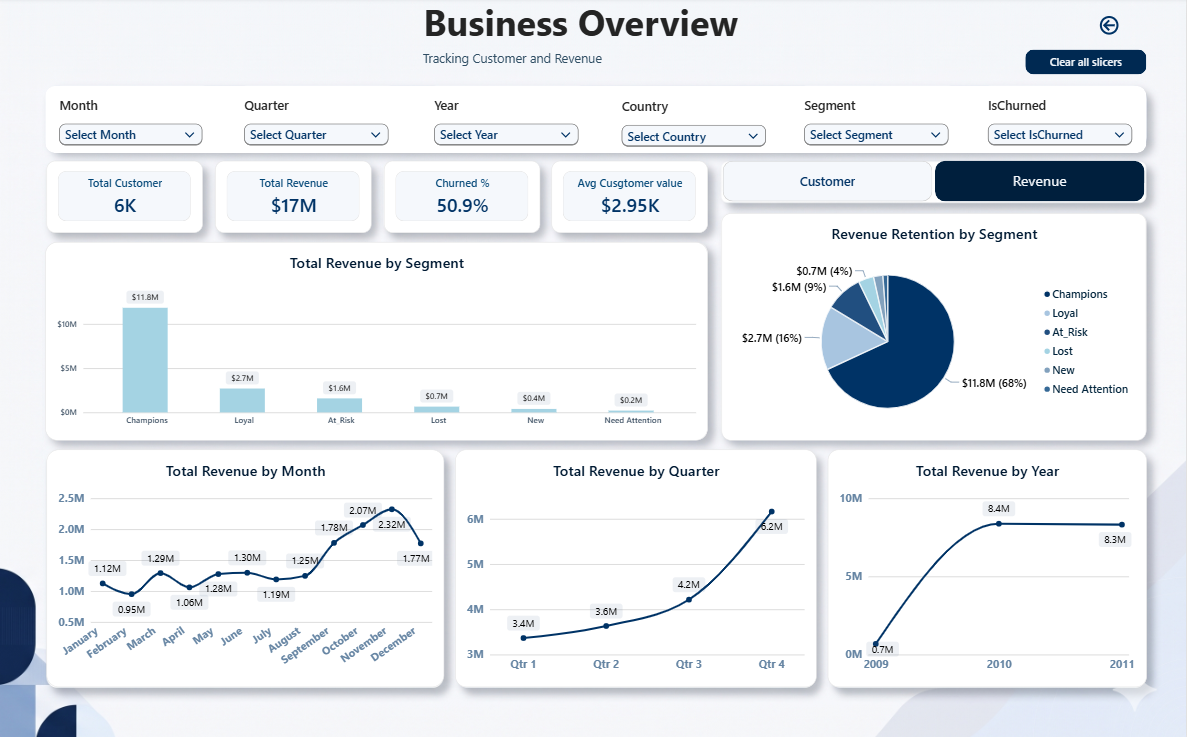

Layout of this report page (visuals, bound fields, positions):
{"tool":"powerbi","page":{"name":"Overview","canvas":[1750,1100],"ordinal":0},"visuals":[{"type":"shape","box":[68.2,130.9,1623.8,99.5],"z":0},{"type":"listSlicer","fields":{"Values":["Sheet1.InvoiceDate.Variation.Date Hierarchy.Month"]},"box":[71.9,130.9,248.8,94],"z":1000},{"type":"listSlicer","fields":{"Values":["Sheet1.InvoiceDate.Variation.Date Hierarchy.Year"]},"box":[624.8,130.9,250.7,97.7],"z":2000},{"type":"listSlicer","fields":{"Values":["Sheet1.Country"]},"box":[901.4,132.2,250.5,92.7],"z":3000},{"type":"listSlicer","fields":{"Values":["Sheet1.IsChurned"]},"box":[1441.9,130.2,250.7,95.8],"z":4000},{"type":"listSlicer","fields":{"Values":["Sheet1.Segment"]},"box":[1170.4,130.9,250.7,94],"z":5000},{"type":"cardVisual","fields":{"Data":["Sheet1.Total Customer"]},"box":[70,241.5,230.4,106],"z":6000},{"type":"lineChart","title":"Total Revenue by Month","fields":{"Category":["Sheet1.InvoiceDate.Variation.Date Hierarchy.Month1"],"Y":["Sum(Sheet1.Revenue)"]},"box":[70,667.3,586.1,350.2],"z":6000,"group":"g1"},{"type":"cardVisual","fields":{"Data":["Sheet1.Avg Cusgtomer value"]},"box":[814.7,241.5,230.4,106],"z":7000},{"type":"lineChart","title":"Total Revenue by Quarter","fields":{"Category":["Sheet1.InvoiceDate.Variation.Date Hierarchy.Quarter1"],"Y":["Sum(Sheet1.Revenue)"]},"box":[672.8,667.3,532.7,350.2],"z":7000,"group":"g1"},{"type":"cardVisual","fields":{"Data":["Sheet1.Total Revenue"]},"box":[318.9,241.5,230.4,106],"z":8000},{"type":"lineChart","title":"Total Revenue by Year","fields":{"Category":["Sheet1.InvoiceDate.Variation.Date Hierarchy.Year"],"Y":["Sum(Sheet1.Revenue)"]},"box":[1222,667.3,470,350.2],"z":8000,"group":"g1"},{"type":"cardVisual","fields":{"Data":["Sheet1.Churned %"]},"box":[567.7,241.5,230.4,106],"z":9000},{"type":"clusteredColumnChart","fields":{"Category":["Sheet1.Segment"],"Y":["Sheet1.Total Revenue"]},"box":[68.2,361.3,976.9,293.1],"z":9000,"group":"g1"},{"type":"actionButton","box":[1513.2,77.4,178.8,36.9],"z":10000},{"type":"pieChart","title":"Revenue Retention by Segment","fields":{"Category":["Sheet1.Segment"],"Y":["Sheet1.Total Revenue"]},"box":[1065.4,318.9,626.7,335.5],"z":10000,"group":"g1"},{"type":"listSlicer","fields":{"Values":["Sheet1.InvoiceDate.Variation.Date Hierarchy.Quarter"]},"box":[344.7,130.9,250.7,95.8],"z":11000},{"type":"textbox","box":[624.8,77.4,495.8,31.3],"z":12000},{"type":"textbox","box":[595.3,0,525.3,77.4],"z":13000},{"type":"group","id":"g1","title":"Revenue","box":[68.2,318.9,1623.8,698.6],"z":15000},{"type":"bookmarkNavigator","box":[1067.9,241.1,623.2,60.7],"z":16000}]}

Visuals, with their boxes in screenshot pixels (x1, y1, x2, y2), scaled from the page's 1750x1100 canvas onto the 1187x737 screenshot:
shape: [46, 88, 1148, 154]
listSlicer - Sheet1.InvoiceDate.Variation.Date Hierarchy.Month: [49, 88, 218, 151]
listSlicer - Sheet1.InvoiceDate.Variation.Date Hierarchy.Year: [424, 88, 594, 153]
listSlicer - Sheet1.Country: [611, 89, 781, 151]
listSlicer - Sheet1.IsChurned: [978, 87, 1148, 151]
listSlicer - Sheet1.Segment: [794, 88, 964, 151]
cardVisual - Sheet1.Total Customer: [47, 162, 204, 233]
"Total Revenue by Month" lineChart: [47, 447, 445, 682]
cardVisual - Sheet1.Avg Cusgtomer value: [553, 162, 709, 233]
"Total Revenue by Quarter" lineChart: [456, 447, 818, 682]
cardVisual - Sheet1.Total Revenue: [216, 162, 373, 233]
"Total Revenue by Year" lineChart: [829, 447, 1148, 682]
cardVisual - Sheet1.Churned %: [385, 162, 541, 233]
clusteredColumnChart - Sheet1.Segment x Sheet1.Total Revenue: [46, 242, 709, 438]
actionButton: [1026, 52, 1148, 77]
"Revenue Retention by Segment" pieChart: [723, 214, 1148, 438]
listSlicer - Sheet1.InvoiceDate.Variation.Date Hierarchy.Quarter: [234, 88, 404, 152]
textbox: [424, 52, 760, 73]
textbox: [404, 0, 760, 52]
"Revenue" group: [46, 214, 1148, 682]
bookmarkNavigator: [724, 162, 1147, 202]
